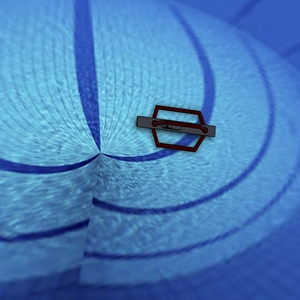submarine: (128, 94, 229, 165)
